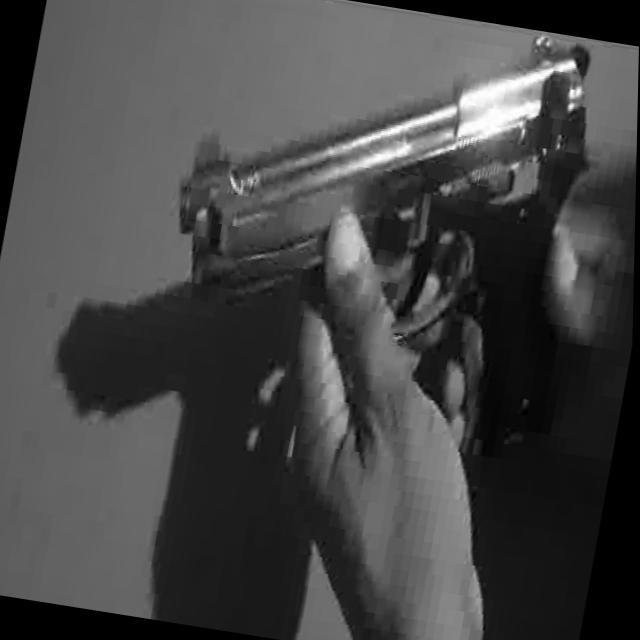weapon: (129, 0, 609, 529)
